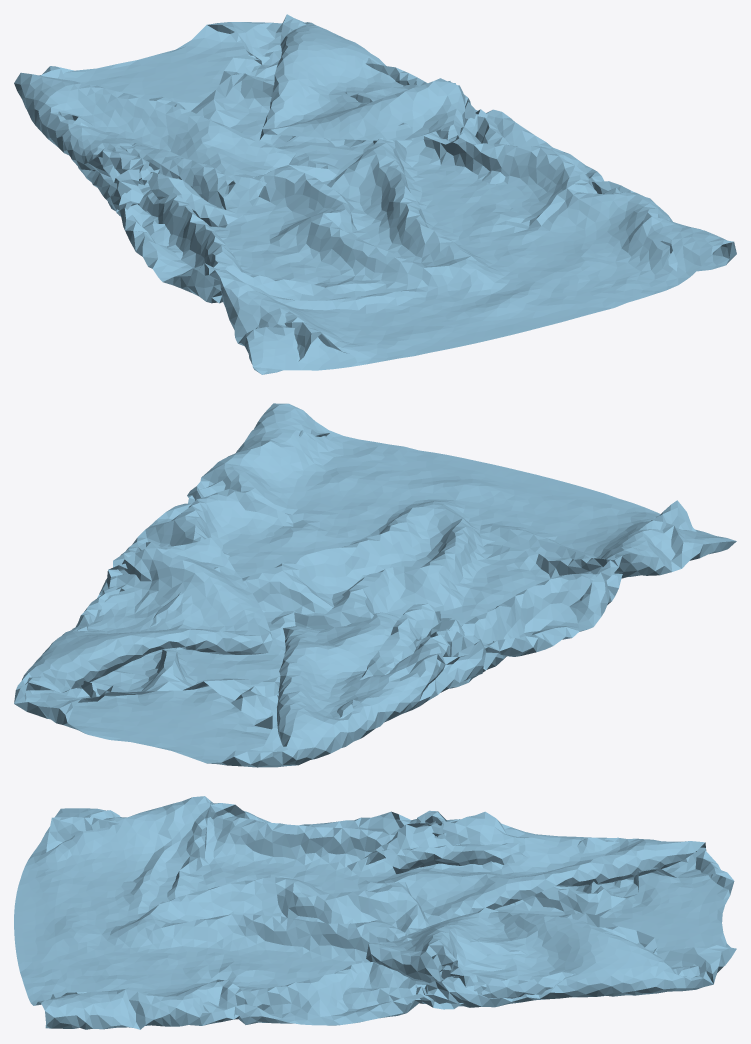
Rendered from frame_20.glb.
3 renders of one model, top to bottom at view 1: azimuth 30°, elevation 25°; view 2: azimuth 150°, elevation 25°; view 3: azimuth 270°, elevation 25°, orthographic. The views are drawn at different scales.
Parts seen in each view (by area): view 1: frame_20.obj; view 2: frame_20.obj; view 3: frame_20.obj.
Boxes of the visible parts, bbox=[...] form: frame_20.obj: bbox=[14, 14, 736, 374]; frame_20.obj: bbox=[14, 403, 736, 767]; frame_20.obj: bbox=[14, 796, 736, 1029].
Size of the model in its own units: 1.22 by 0.1489 by 1.69.
